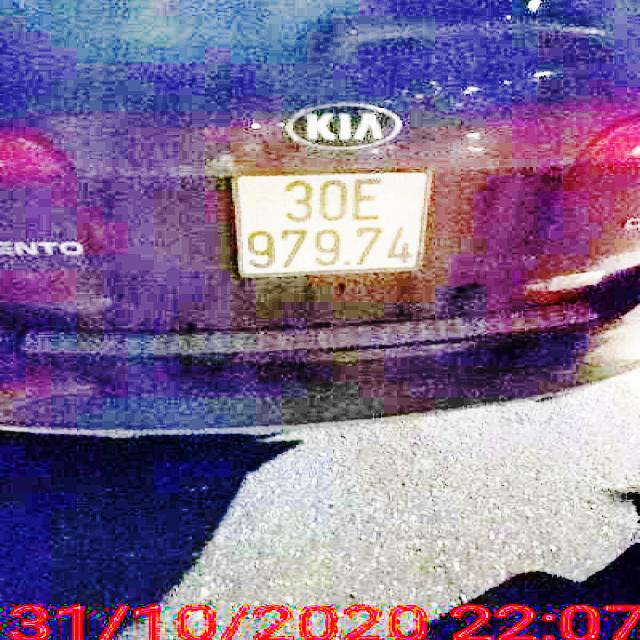license_plate: (238, 175, 432, 277)
